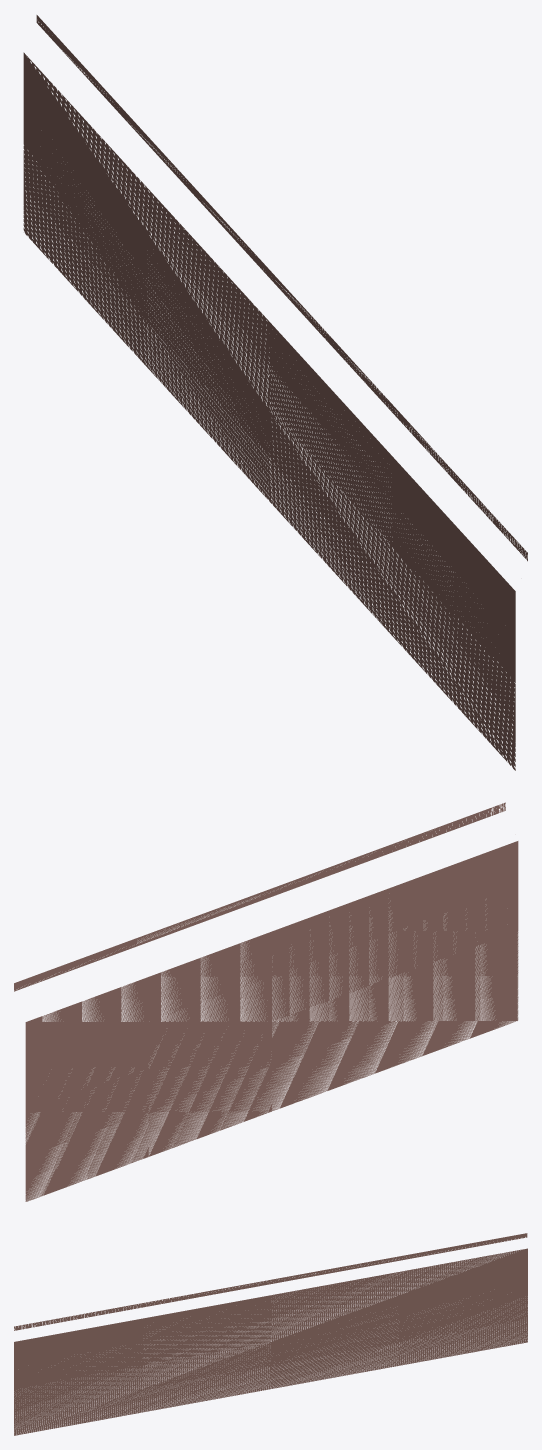
Rendered from SW_ENV_WalledRiser_WireFence_Collsion.fbx.
3 views of the same model, one above another, from view 1: azimuth 30°, elevation 25°; view 2: azimuth 150°, elevation 25°; view 3: azimuth 270°, elevation 25° (orthographic). The views are drawn at different scales.
Parts seen in each view (by area): view 1: SW_ENV_WalledRiser_WireFence_Collsion; view 2: SW_ENV_WalledRiser_WireFence_Collsion; view 3: SW_ENV_WalledRiser_WireFence_Collsion.
Boxes of the visible parts, x1,y1,x2,y2 form: SW_ENV_WalledRiser_WireFence_Collsion: [23, 15, 527, 770]; SW_ENV_WalledRiser_WireFence_Collsion: [14, 802, 518, 1201]; SW_ENV_WalledRiser_WireFence_Collsion: [14, 1233, 527, 1435].
Size of the model in its own units: 25.55 by 438 by 991.
